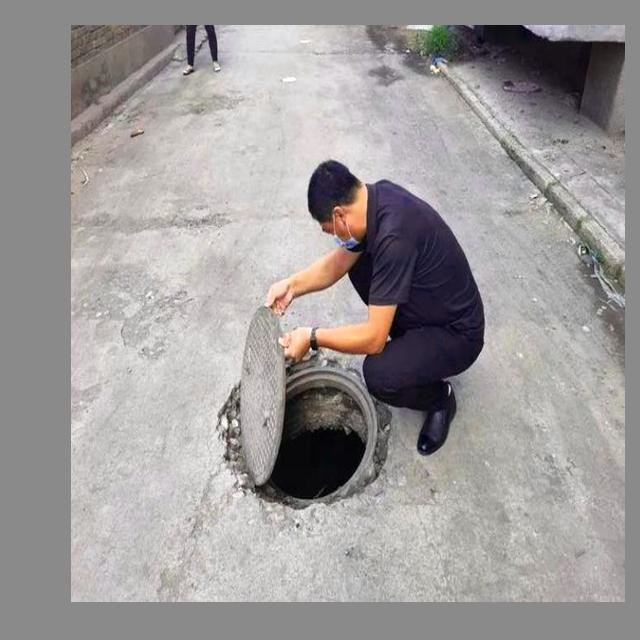circle: (203, 321, 423, 529)
